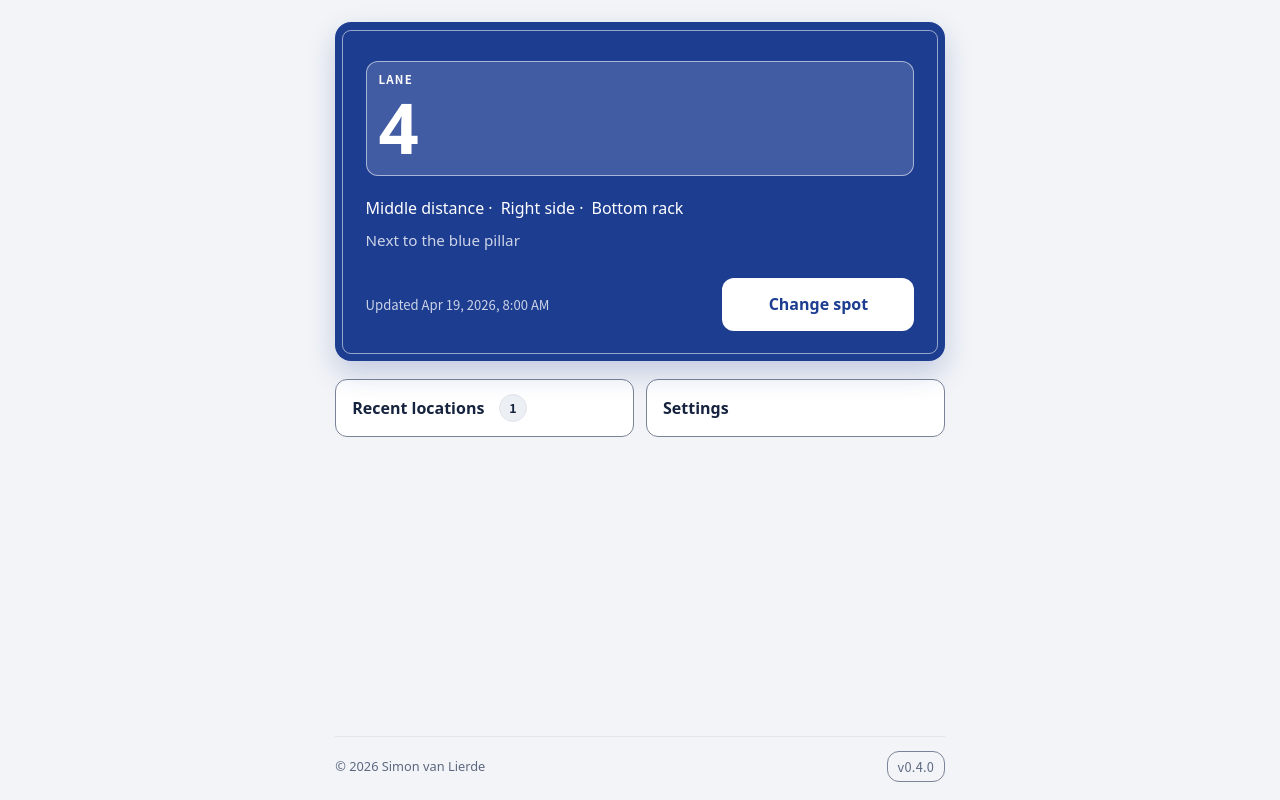
Test: clearing parking data › clears after the second tap
Click the button "Settings" at (696, 408), box [646, 378, 945, 437]
(page scrolled)
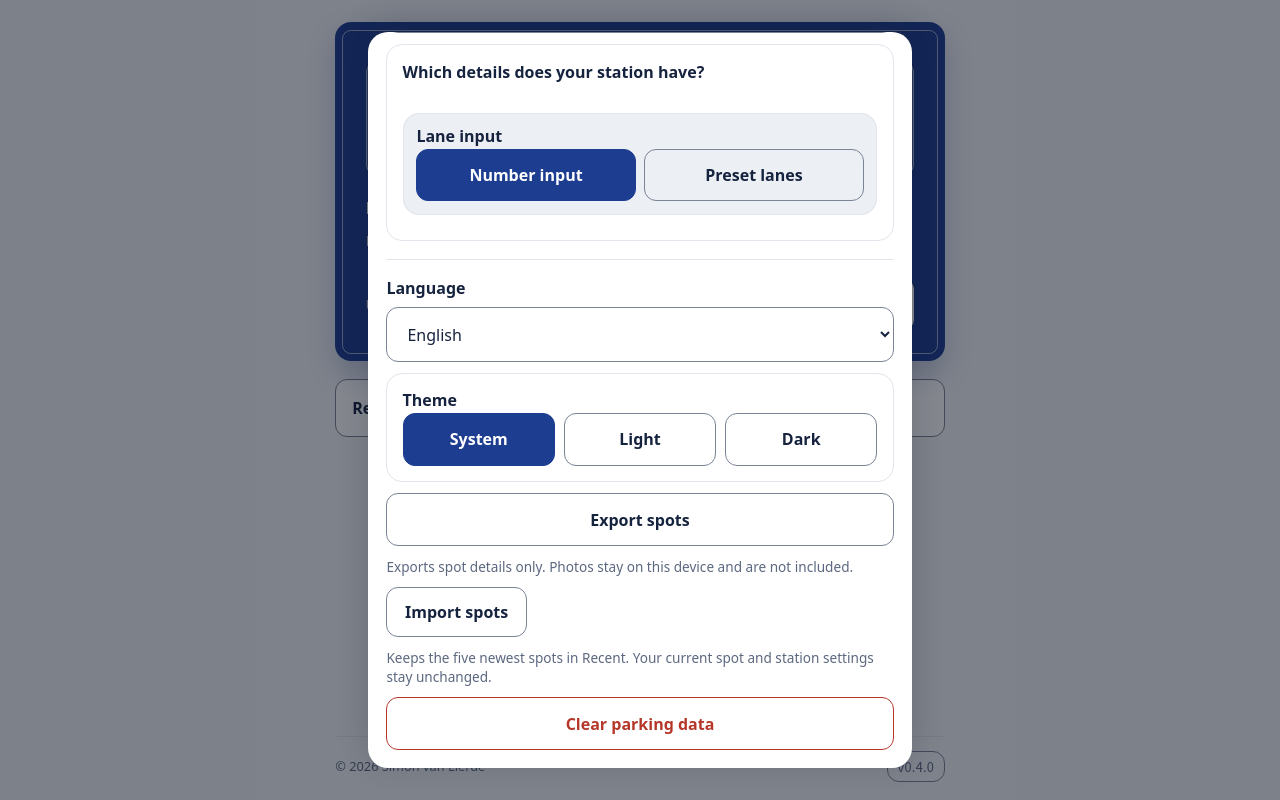
Click the button "Clear parking data" at (640, 724), box [386, 697, 894, 750]
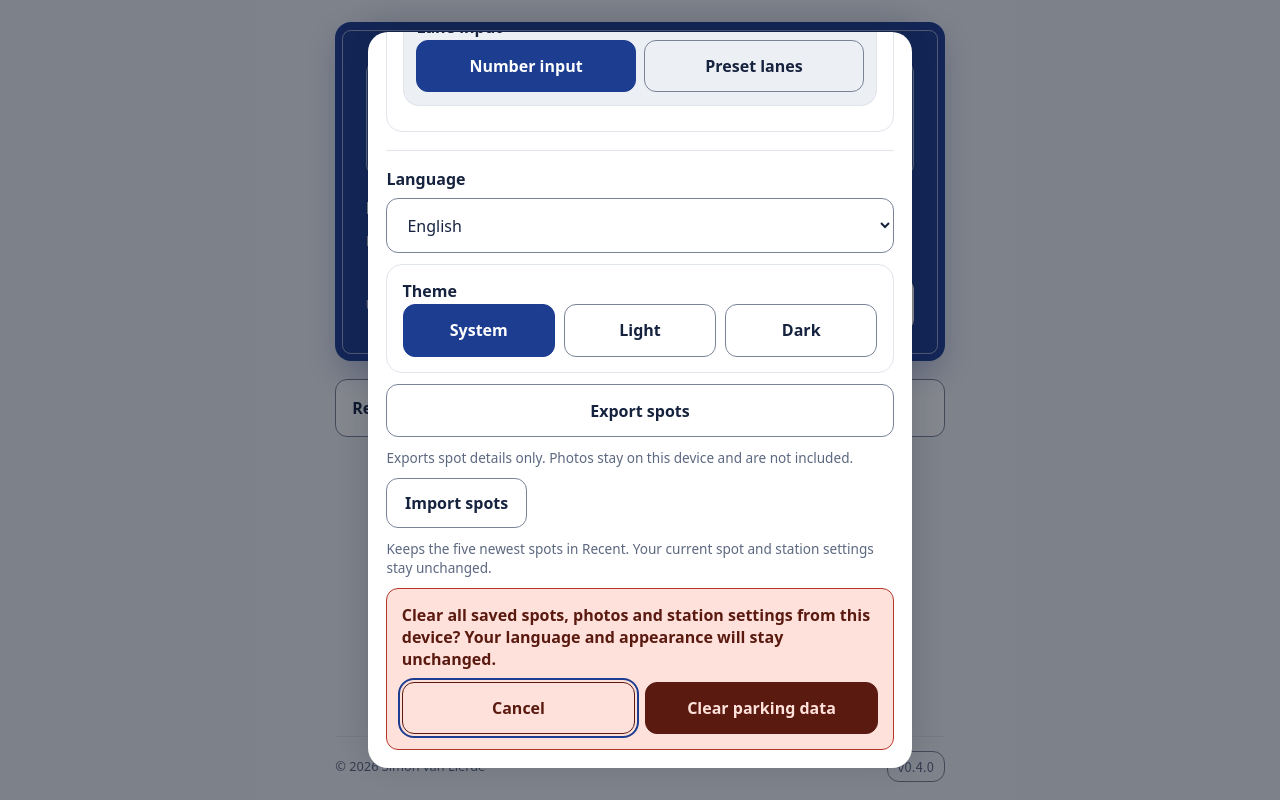
Click the button "Clear parking data" at (762, 708), box [645, 682, 878, 734]
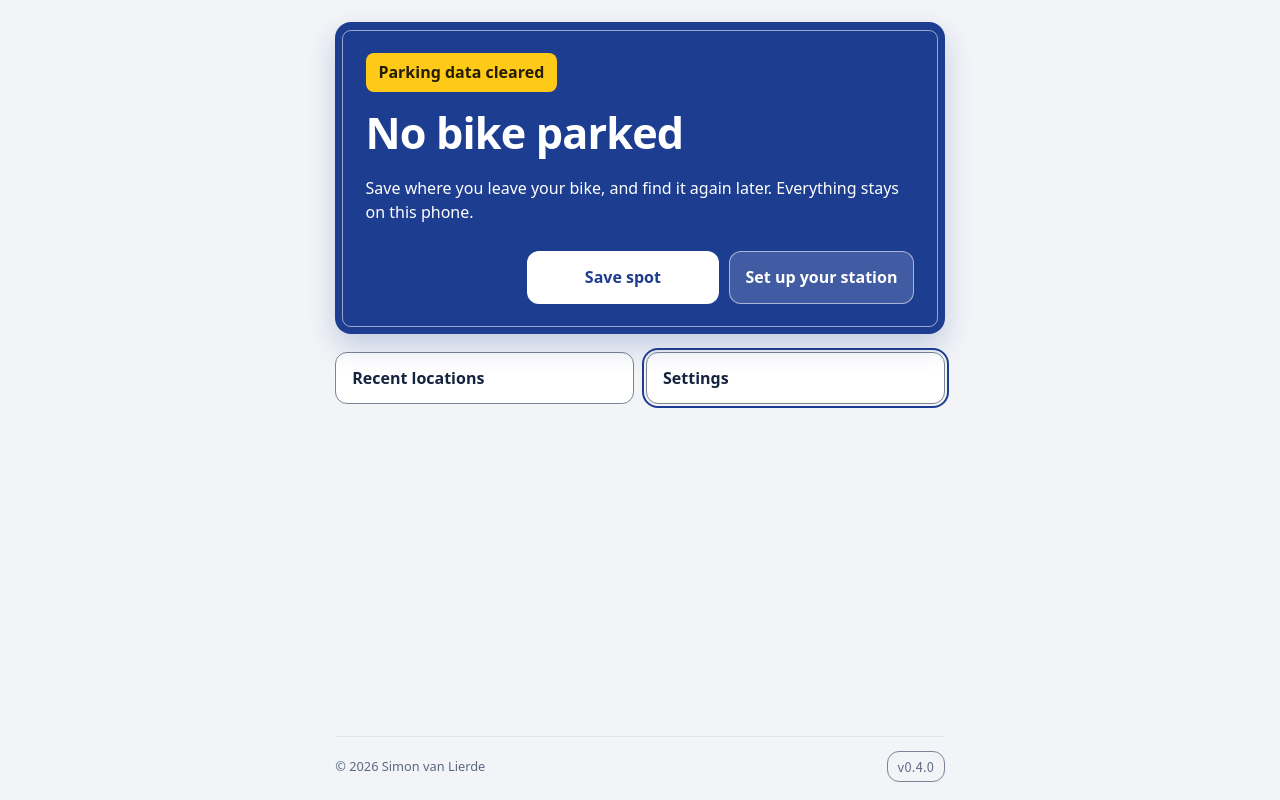
Check: the text "Parking data cleared" is shown, box [366, 53, 557, 92]
Check: the list item "Lane 4" is gone
